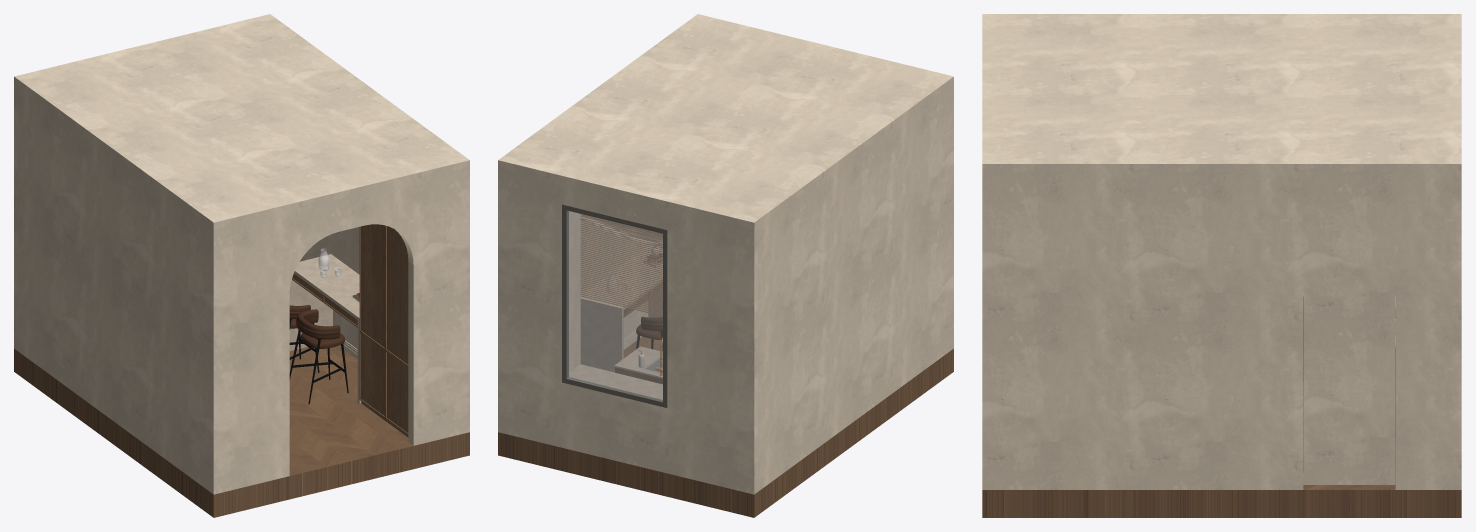
Rendered from kitchen.glb.
3 renders of one model, left to right at view 1: azimuth 30°, elevation 25°; view 2: azimuth 150°, elevation 25°; view 3: azimuth 270°, elevation 25°, orthographic. The views are drawn at different scales.
Visible parts, largest first — view 1: KITCHEN__CEIL, KITCHEN__WALL_W, KITCHEN__SOLID, KITCHEN__WALL_S, KITCHEN__WALL_N, KITCHEN__WALL_E; view 2: KITCHEN__WALL_N, KITCHEN__CEIL, KITCHEN__WALL_W, KITCHEN__SOLID, KITCHEN__WALL_E; view 3: KITCHEN__WALL_E, KITCHEN__CEIL, KITCHEN__WALL_N, KITCHEN__SOLID.
Part boxes in pixels (x1,y1,x2,y2): KITCHEN__CEIL: (14, 14, 469, 245); KITCHEN__WALL_W: (36, 116, 241, 494); KITCHEN__SOLID: (14, 224, 469, 517); KITCHEN__WALL_S: (242, 186, 460, 487); KITCHEN__WALL_N: (14, 100, 35, 364); KITCHEN__WALL_E: (300, 183, 469, 434); KITCHEN__WALL_N: (498, 183, 775, 494); KITCHEN__CEIL: (498, 14, 953, 245); KITCHEN__WALL_W: (776, 100, 953, 478); KITCHEN__SOLID: (498, 214, 953, 517); KITCHEN__WALL_E: (580, 221, 648, 349); KITCHEN__WALL_E: (982, 192, 1408, 489); KITCHEN__CEIL: (982, 14, 1461, 191); KITCHEN__WALL_N: (1409, 192, 1461, 489); KITCHEN__SOLID: (982, 296, 1461, 517).
Size of the model in its own units: 3.45 by 3.8 by 4.66.
49 materials, 7 textured.
